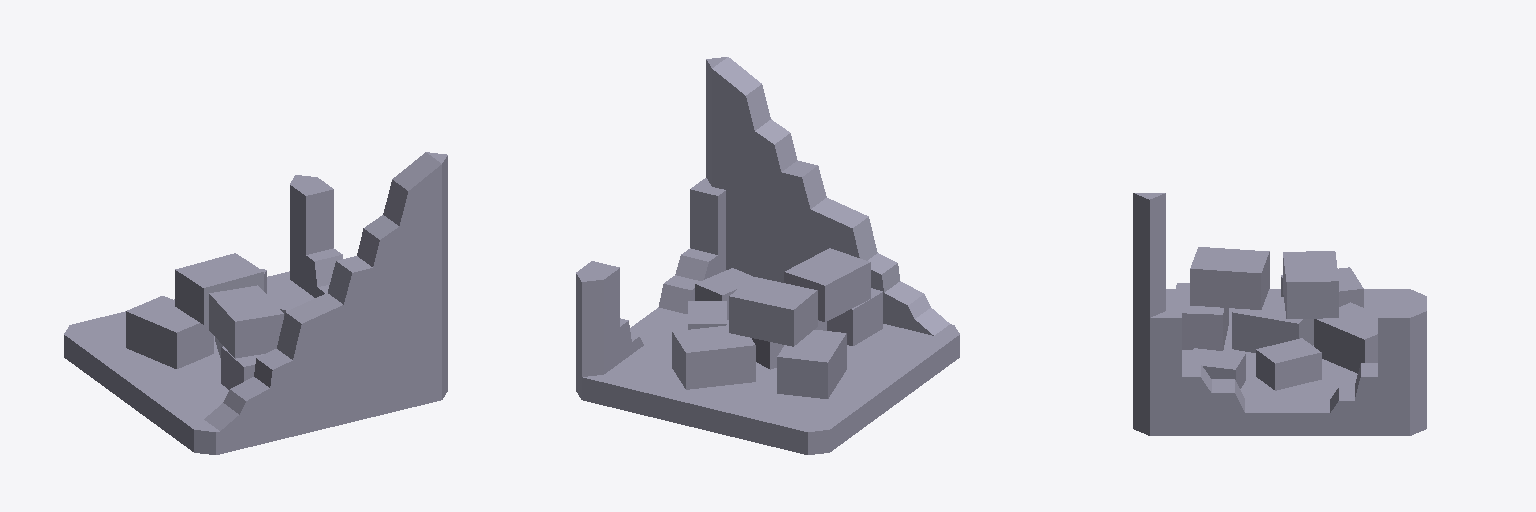
Rendered from Level2.obj.
3 renders of one model, left to right at view 1: azimuth 30°, elevation 25°; view 2: azimuth 150°, elevation 25°; view 3: azimuth 270°, elevation 25°, orthographic.
Parts seen in each view (by area): view 1: wall_ruined_7, floor_square_1, debris_bricks_0, battlement_ruined_2; view 2: floor_square_1, wall_ruined_7, debris_bricks_0, battlement_ruined_2; view 3: debris_bricks_0, battlement_ruined_2, floor_square_1, wall_ruined_7.
Part boxes in pixels (left/top/right/bottom): wall_ruined_7: left=194, top=152, right=447, bottom=454; floor_square_1: left=64, top=271, right=390, bottom=454; debris_bricks_0: left=126, top=253, right=314, bottom=389; battlement_ruined_2: left=290, top=175, right=342, bottom=297; floor_square_1: left=576, top=307, right=959, bottom=454; wall_ruined_7: left=706, top=57, right=949, bottom=335; debris_bricks_0: left=672, top=248, right=882, bottom=398; battlement_ruined_2: left=576, top=178, right=725, bottom=399; debris_bricks_0: left=1173, top=247, right=1377, bottom=390; battlement_ruined_2: left=1150, top=304, right=1426, bottom=435; floor_square_1: left=1150, top=289, right=1426, bottom=435; wall_ruined_7: left=1133, top=193, right=1165, bottom=435.
Bounding box in the file's own units: 1.12 × 1 × 1.12.